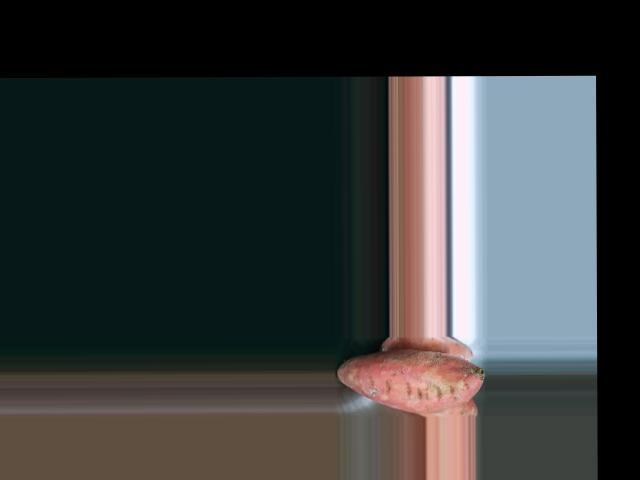sweet_potato: (338, 356, 485, 408)
